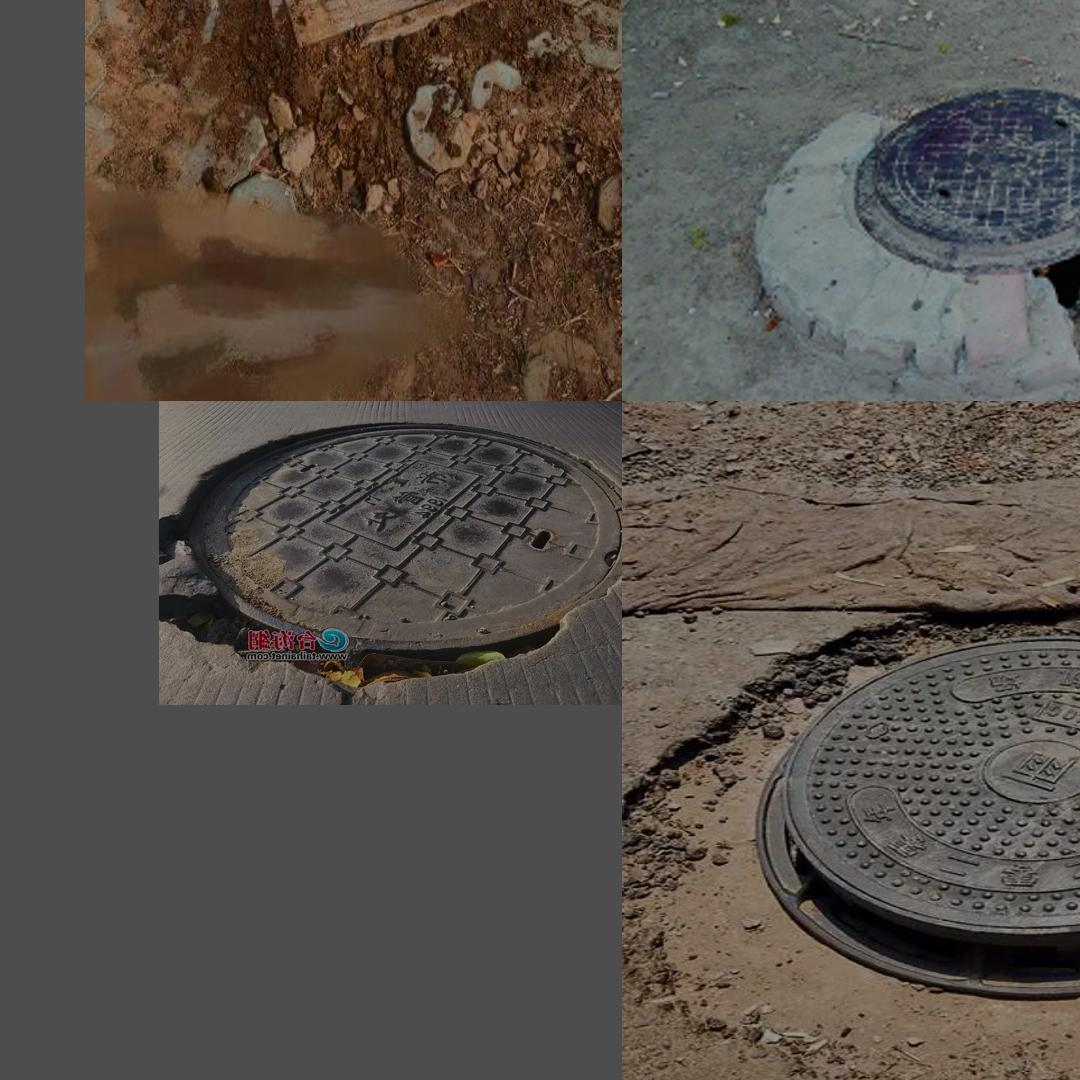circle: (639, 606, 1080, 1080), (168, 420, 610, 691), (740, 76, 1080, 364), (195, 0, 523, 95)
